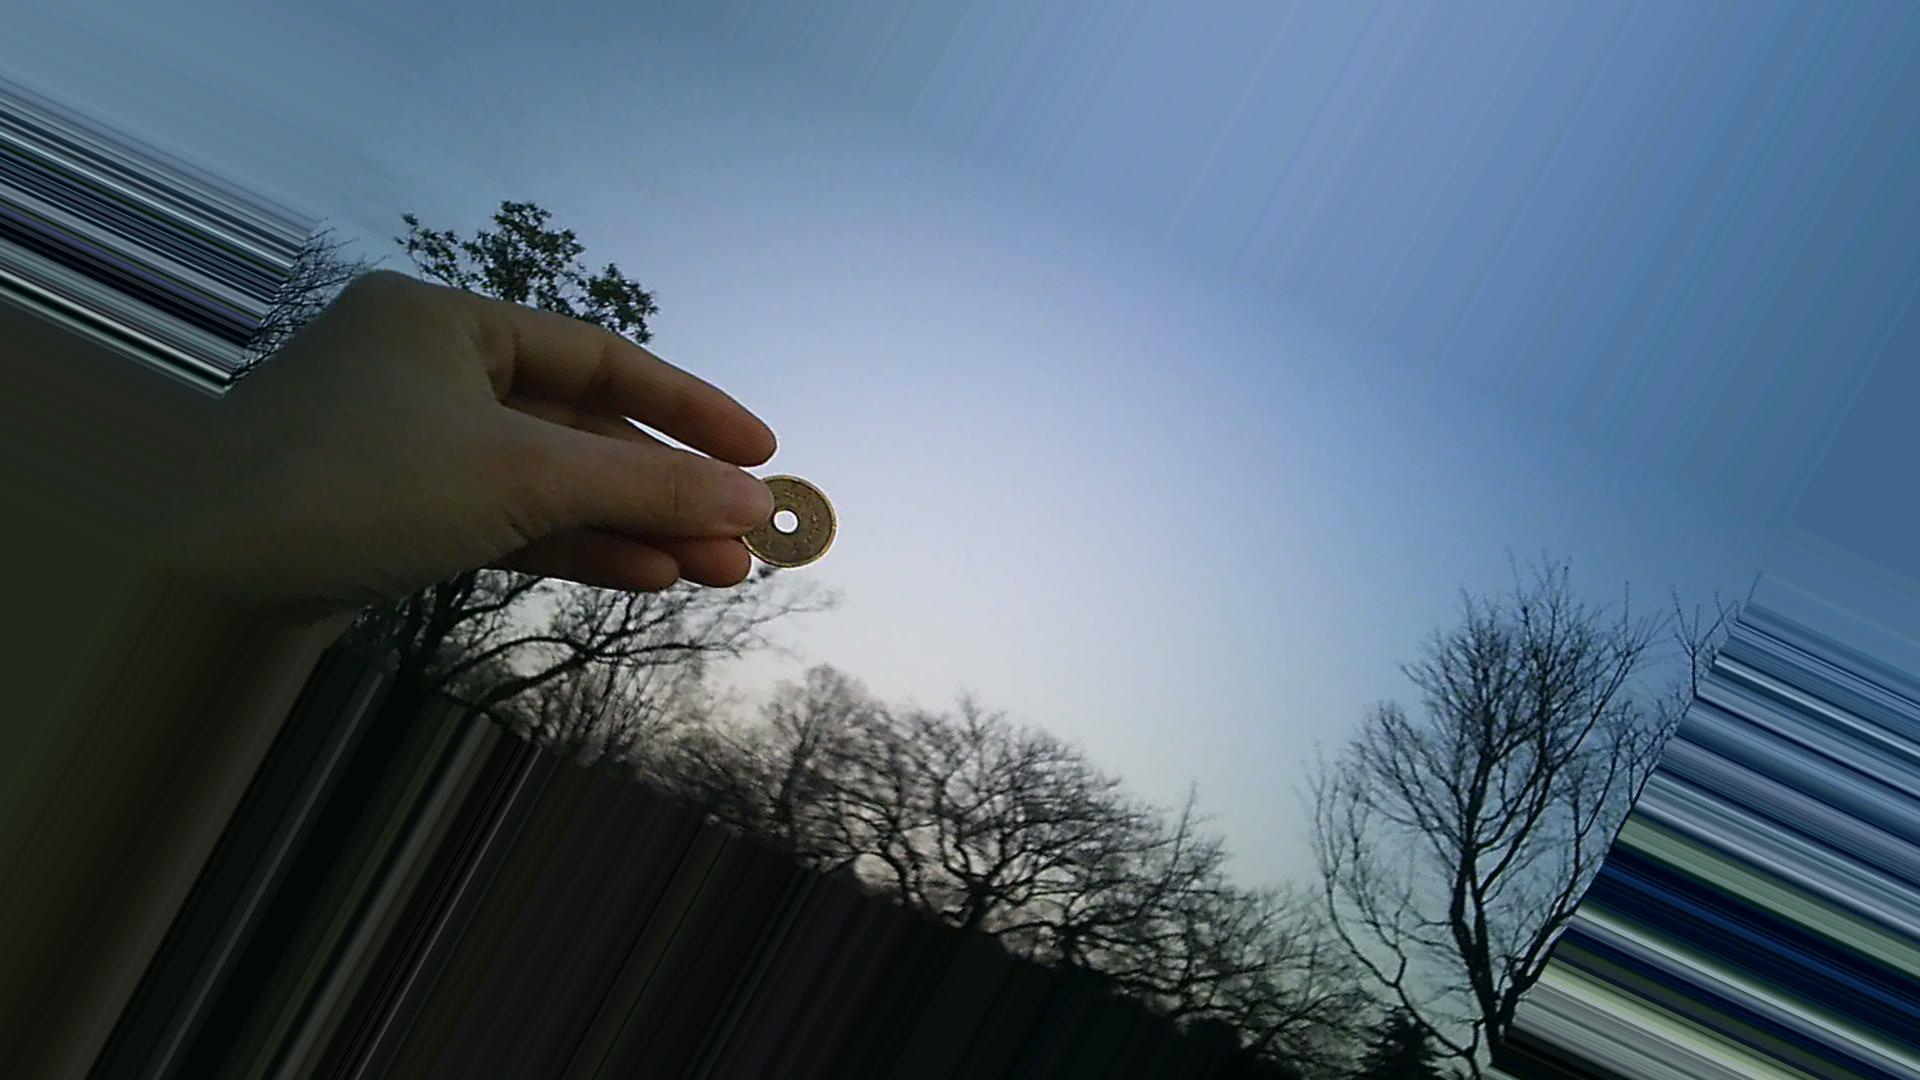5 Yen: (728, 454, 843, 571)
